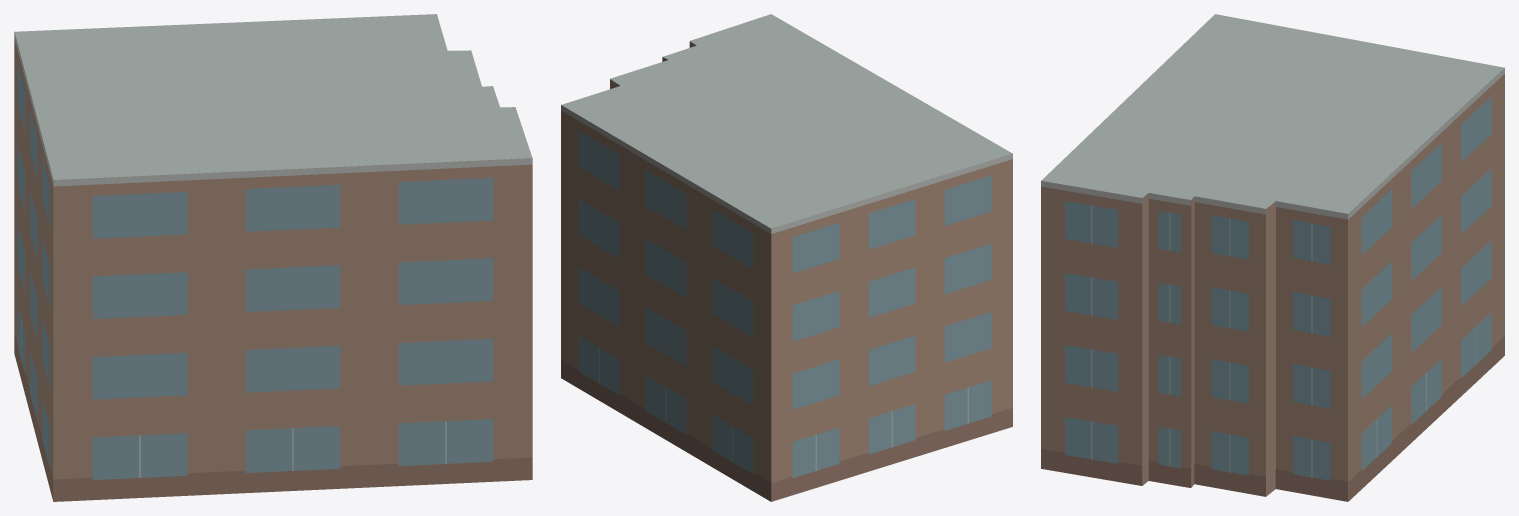
The model's file is survey-upis-32477253.glb.
3 views of the same model, side by side, from view 1: azimuth 30°, elevation 25°; view 2: azimuth 150°, elevation 25°; view 3: azimuth 270°, elevation 25° (orthographic). The views are drawn at different scales.
Parts seen in each view (by area): view 1: survey-upis-32477253.tmp; view 2: survey-upis-32477253.tmp; view 3: survey-upis-32477253.tmp.
Part boxes in pixels (box(x1,y1,x2,y2)): survey-upis-32477253.tmp: box(14, 14, 532, 501); survey-upis-32477253.tmp: box(561, 14, 1012, 501); survey-upis-32477253.tmp: box(1041, 14, 1504, 501).
Size of the model in its own units: 18.07 by 12.13 by 17.71.
